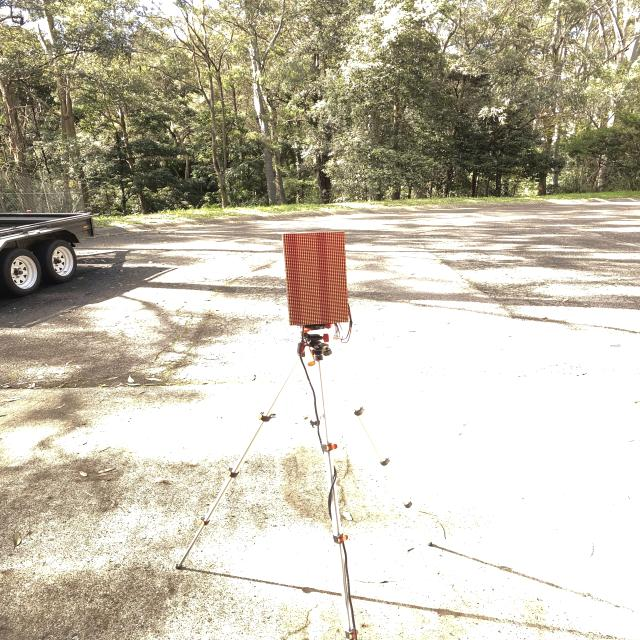matrix: (272, 230, 355, 330)
